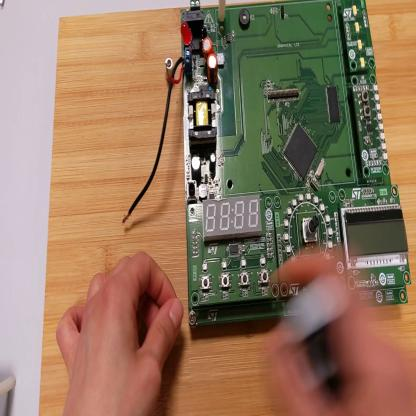hand: (266, 242, 413, 414), (59, 250, 186, 414)
low voltage board: (121, 2, 411, 330)
screwdriver-: (291, 279, 345, 406)
working area: (38, 1, 416, 416)
